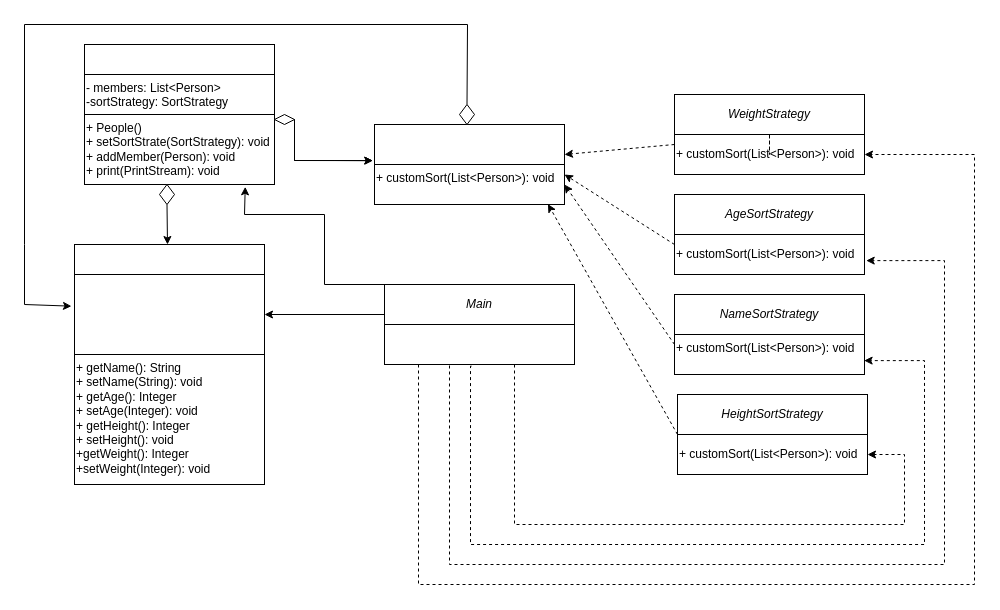
The diagram is 1000 pixels wide and 610 high, and some of its shapes have lost their labels. Each missing label, with the box of its shape:
+ main(String[]): void: (384, 324, 574, 364)
- name: String - age: Integer - height: Integer - weight: Integer: (74, 274, 264, 354)
<<Interface>> SortStrategy: (374, 124, 564, 164)
People: (84, 44, 274, 74)
Person: (74, 244, 264, 274)
